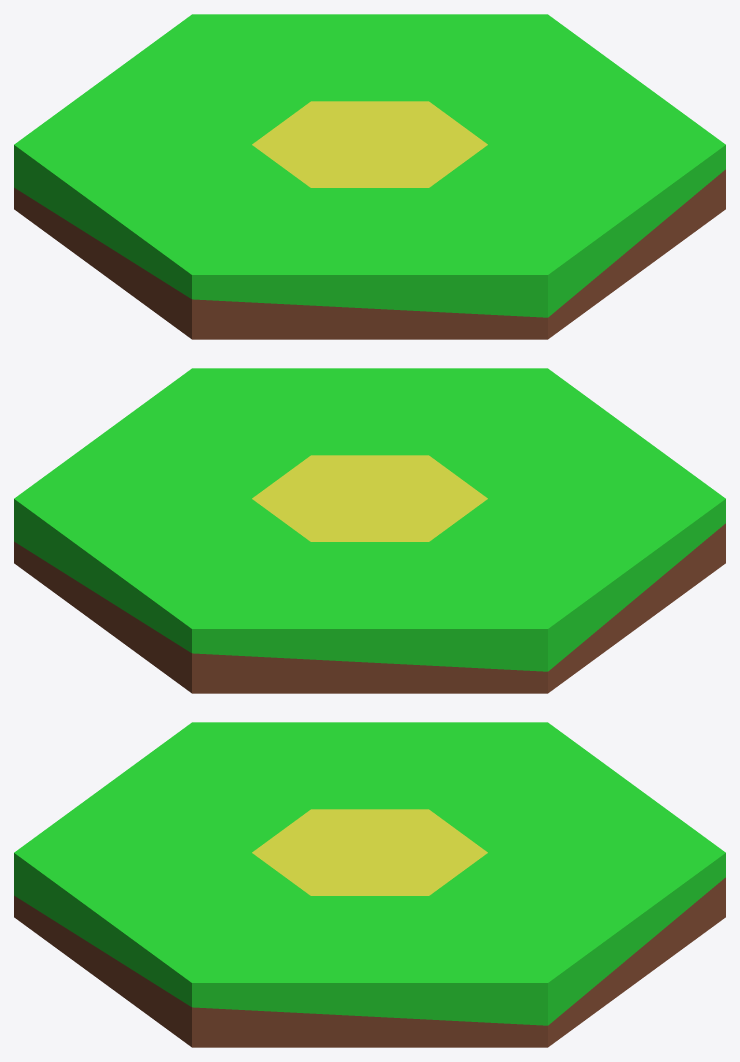
The model's file is pathNodeTile.fbx.
The picture shows the model from 3 angles, top to bottom: view 1: azimuth 30°, elevation 25°; view 2: azimuth 150°, elevation 25°; view 3: azimuth 270°, elevation 25°; orthographic projection.
Parts seen in each view (by area): view 1: CylinderPathNode; view 2: CylinderPathNode; view 3: CylinderPathNode.
Part boxes in pixels (x1,y1,x2,y2): CylinderPathNode: (14, 14, 725, 339); CylinderPathNode: (14, 368, 725, 693); CylinderPathNode: (14, 722, 725, 1047).
Size of the model in its own units: 173 by 40 by 200.
